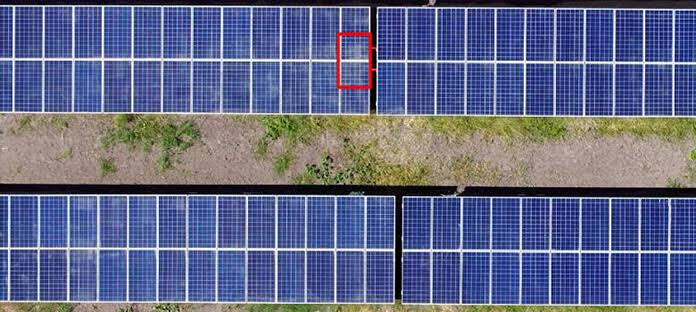Solar Panel: (6, 195, 393, 302), (1, 6, 332, 114), (380, 8, 693, 116), (404, 198, 693, 305)
